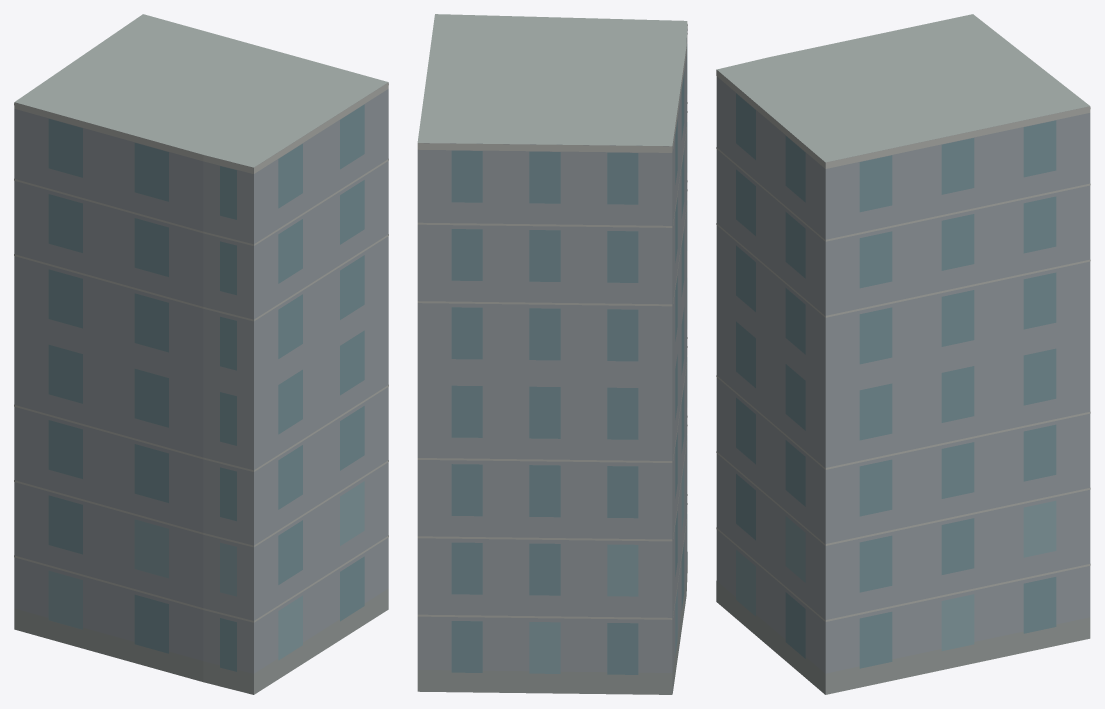
The model's file is survey-upis-32724950.glb.
3 views of the same model, side by side, from view 1: azimuth 30°, elevation 25°; view 2: azimuth 150°, elevation 25°; view 3: azimuth 270°, elevation 25° (orthographic). The views are drawn at different scales.
Parts seen in each view (by area): view 1: survey-upis-32724950.tmp; view 2: survey-upis-32724950.tmp; view 3: survey-upis-32724950.tmp.
Part boxes in pixels (<box>): survey-upis-32724950.tmp: <box>14,14,388,694</box>; survey-upis-32724950.tmp: <box>417,14,687,694</box>; survey-upis-32724950.tmp: <box>716,14,1090,694</box>.
Bounding box in the file's own units: 11.74 × 19.6 × 12.49.
